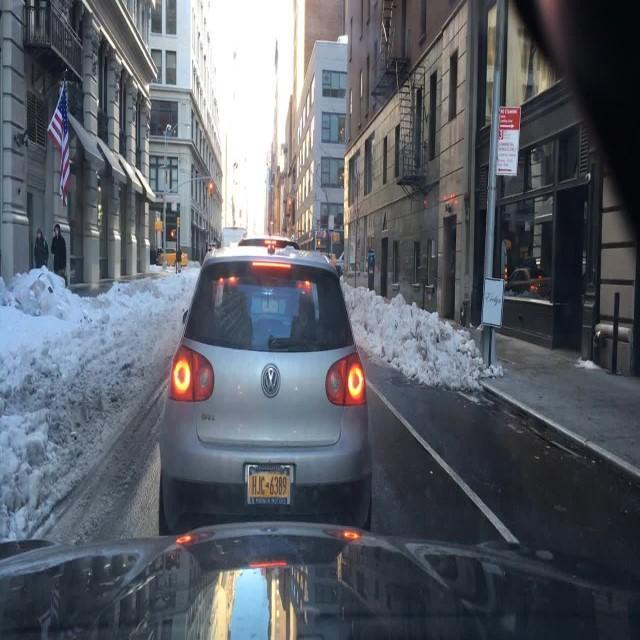normal: (135, 193, 402, 572)
